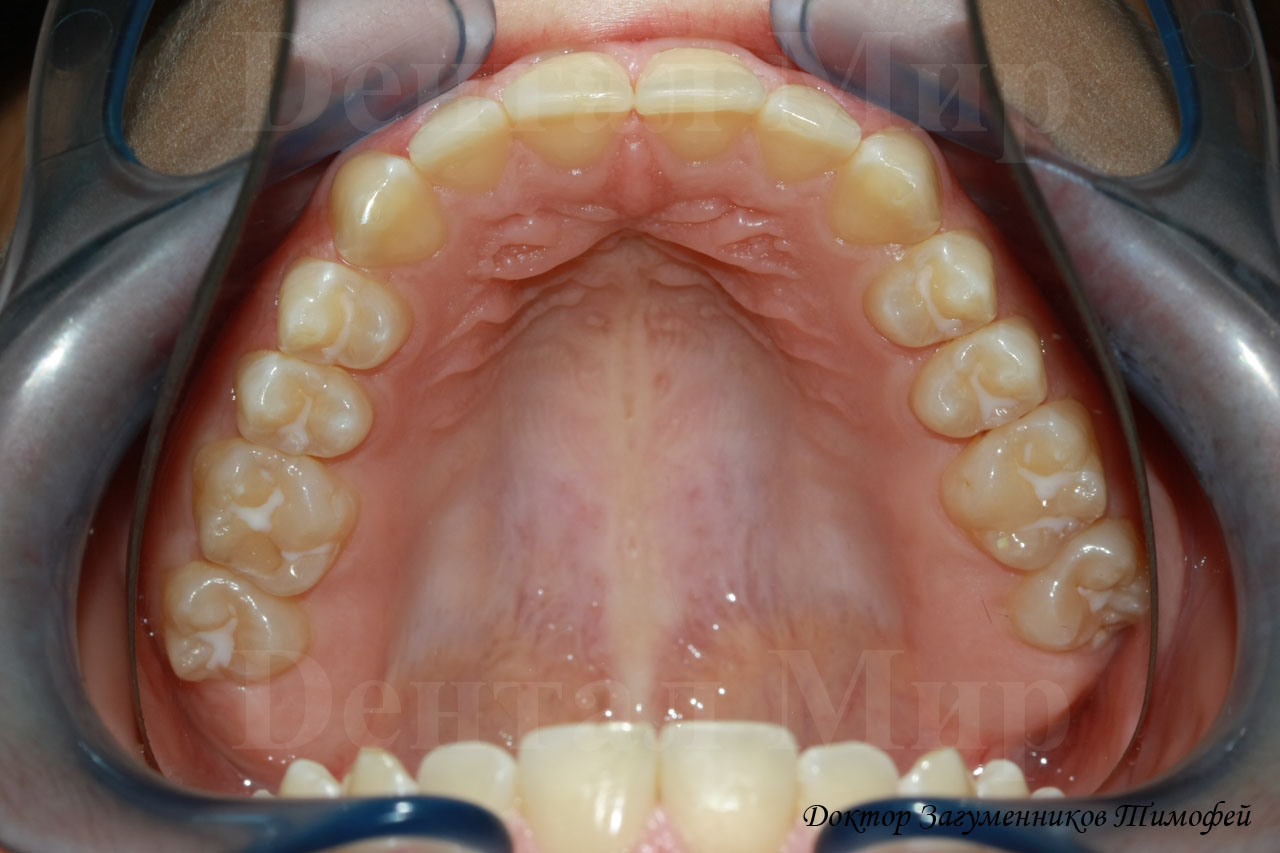UL1BC_healthy: (870, 245, 994, 344)
UL1M_healthy: (944, 426, 1113, 552)
UL2BC_healthy: (932, 328, 1043, 432)
UL2M_healthy: (1033, 540, 1144, 647)
ULCI_healthy: (631, 48, 762, 158)
ULC_healthy: (847, 134, 941, 239)
ULLI_healthy: (759, 92, 859, 184)
UR1BC_healthy: (283, 265, 414, 374)
UR1M_healthy: (189, 451, 354, 589)
UR2BC_healthy: (239, 355, 378, 465)
UR2M_healthy: (157, 580, 304, 685)
URCI_healthy: (509, 55, 632, 167)
URC_healthy: (333, 155, 452, 269)
URLI_healthy: (410, 100, 510, 197)
